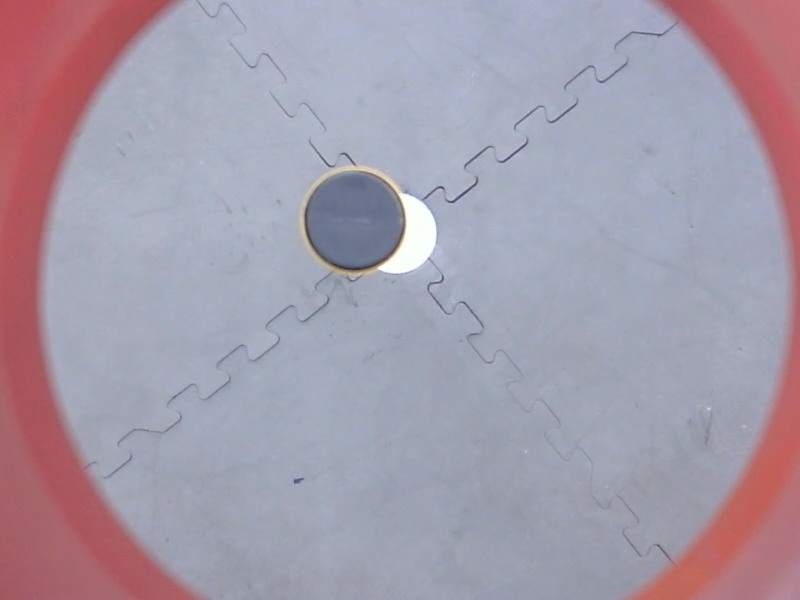tip: (294, 162, 414, 282)
